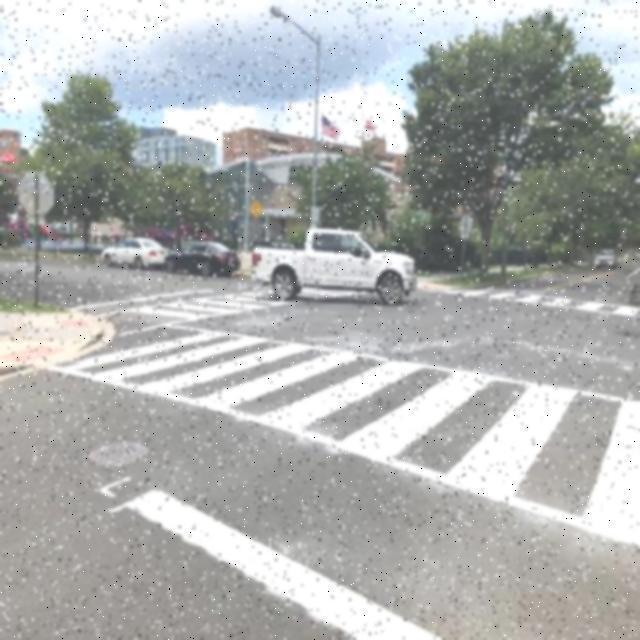crosswalk: (55, 328, 640, 547)
